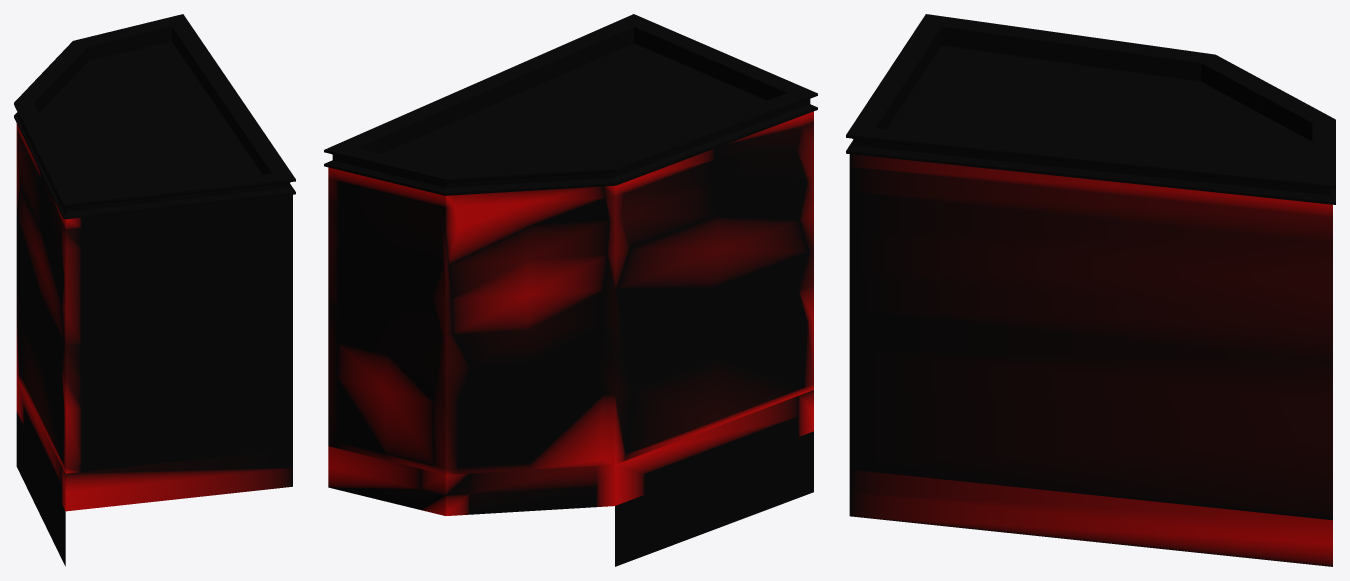
The model's file is House_Corner2.fbx.
3 renders of one model, left to right at view 1: azimuth 30°, elevation 25°; view 2: azimuth 150°, elevation 25°; view 3: azimuth 270°, elevation 25°, orthographic. The views are drawn at different scales.
Parts seen in each view (by area): view 1: House_Corner2; view 2: House_Corner2; view 3: House_Corner2.
Part boxes in pixels (box(x1,y1,x2,y2)): House_Corner2: box(14, 14, 295, 566); House_Corner2: box(324, 14, 817, 566); House_Corner2: box(846, 14, 1335, 566).
Bounding box in the file's own units: 1187 × 1449 × 1426.
